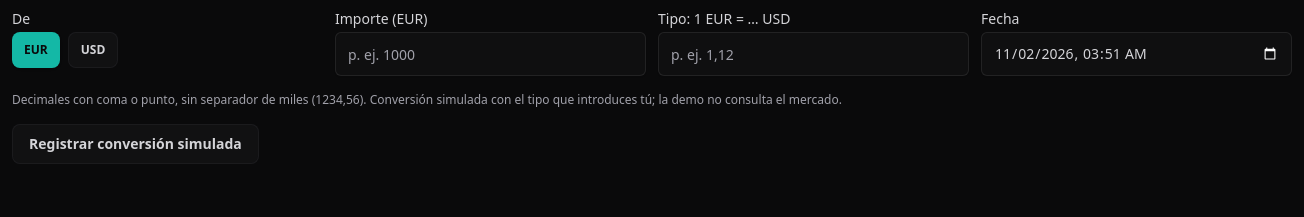
Scenario: FxTicket (conversión EUR ⇄ USD simulada) › un envío correcto registra la conversión con coma decimal, avisa y limpia los campos
Type "1000" into the field labelled "Importe (EUR)".
click(490, 54); type("1000")  # box [335,32,646,76]
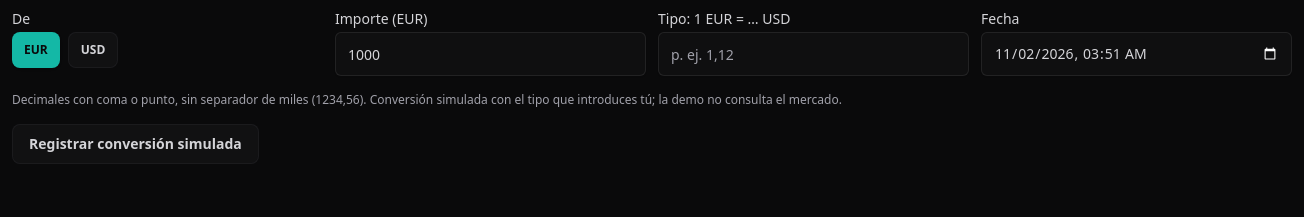
Type "1,12" into the field labelled "Tipo: 1 EUR = … USD".
click(814, 54); type("1,12")  # box [658,32,969,76]
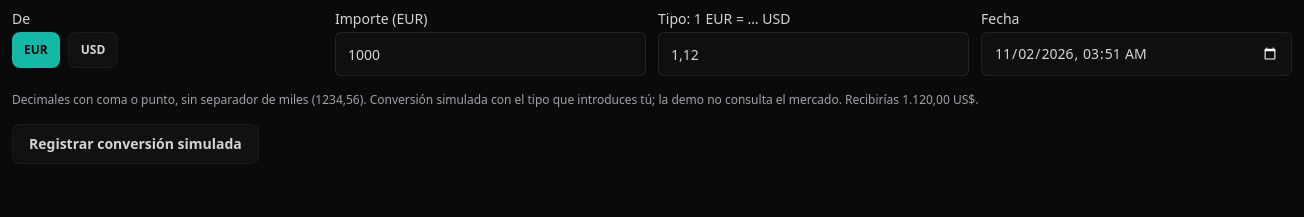
Submit the form named "Conversión de divisa simulada"
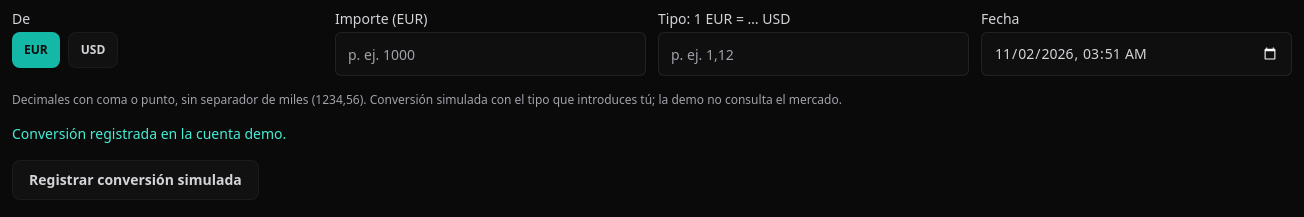
Expected: the message reads "Conversión registrada en la cuenta demo.", [12,124,286,143]
Expected: the field labelled "Importe (EUR)" is empty, [335,32,646,76]
Expected: the field labelled "Tipo: 1 EUR = … USD" is empty, [658,32,969,76]
